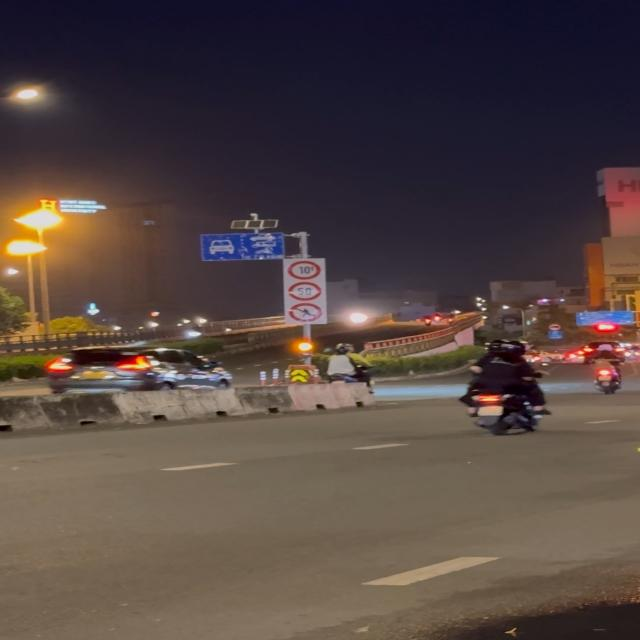Bien bao cam nguoi di bo: (287, 302, 324, 324)
Bien bao toc do toi da cho phep: (286, 280, 324, 300)
